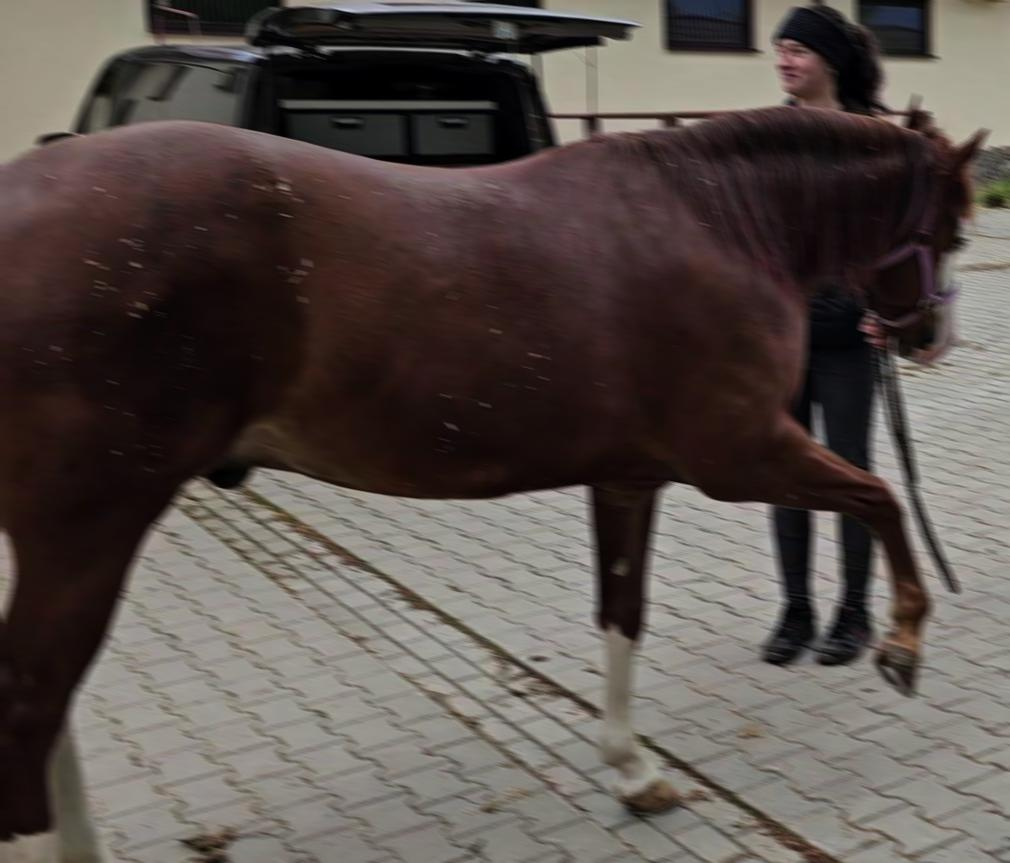horse: (0, 92, 986, 861)
